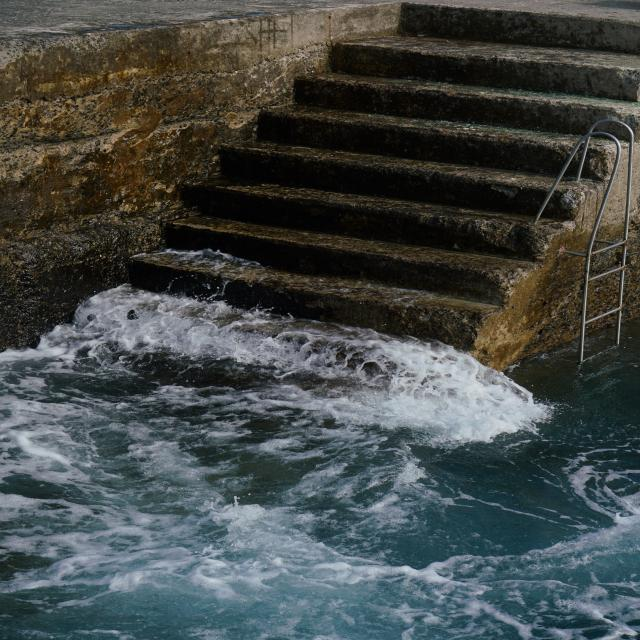Concrete: (136, 2, 640, 368)
